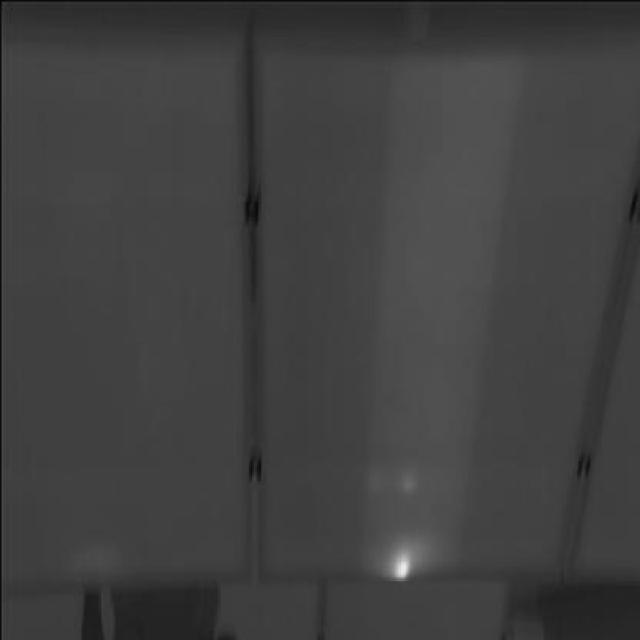hotspot: (382, 538, 415, 580)
